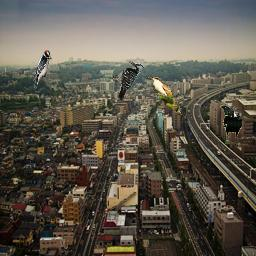Crow: (220, 105, 242, 145)
Cuckoo: (147, 76, 183, 116)
Woodpecker: (113, 61, 144, 101), (33, 50, 52, 90)
